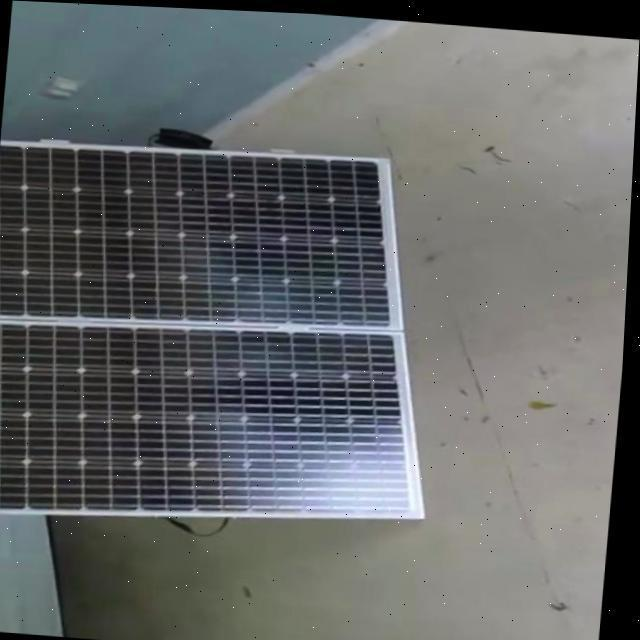Normal Solar Panel: (0, 126, 456, 544)
